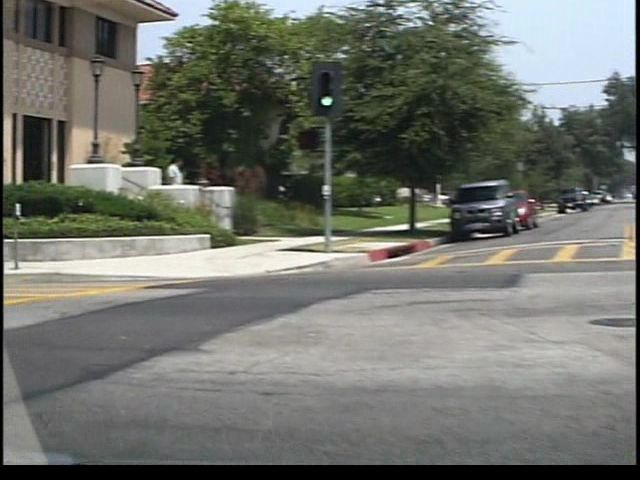person: (155, 151, 176, 219)
